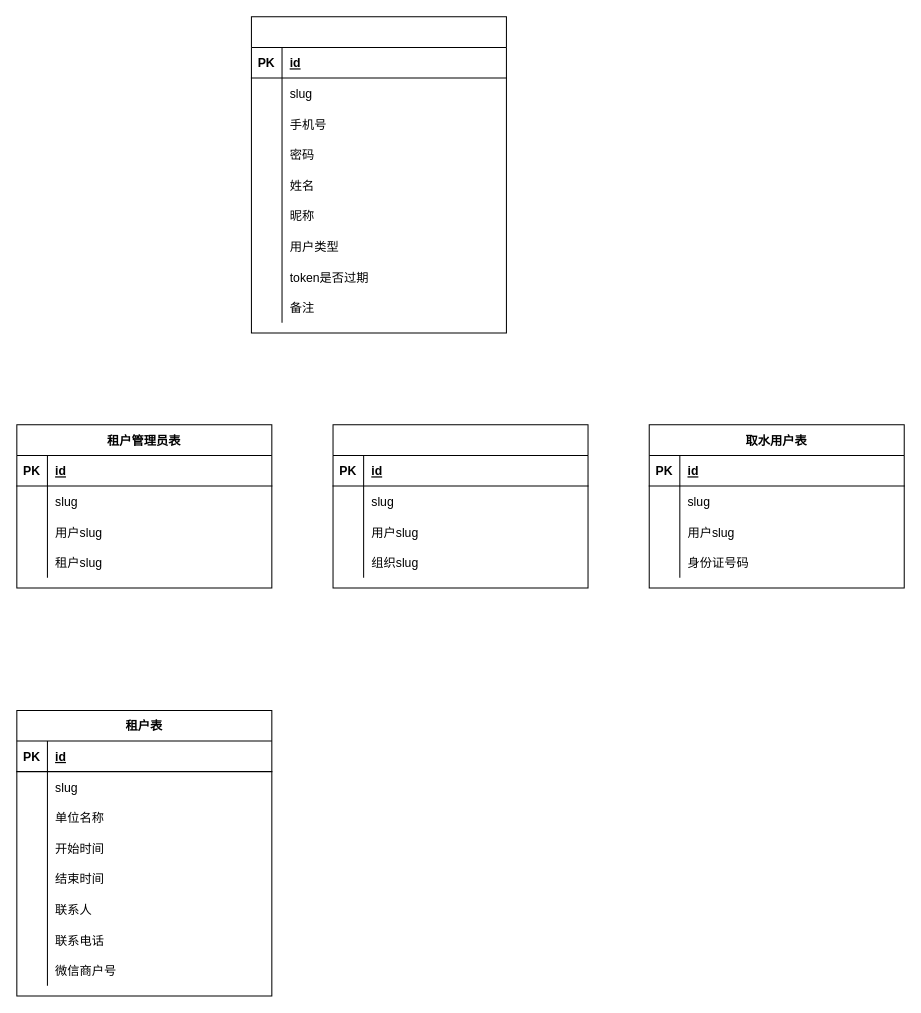
Image size: 921x1013. Some labels were removed from this diagram. Here are the shapes that lost their labels. From the top down, the box of each, then its label:
(250, 16, 506, 333): 用户表
(332, 424, 588, 588): 组织管理员表
